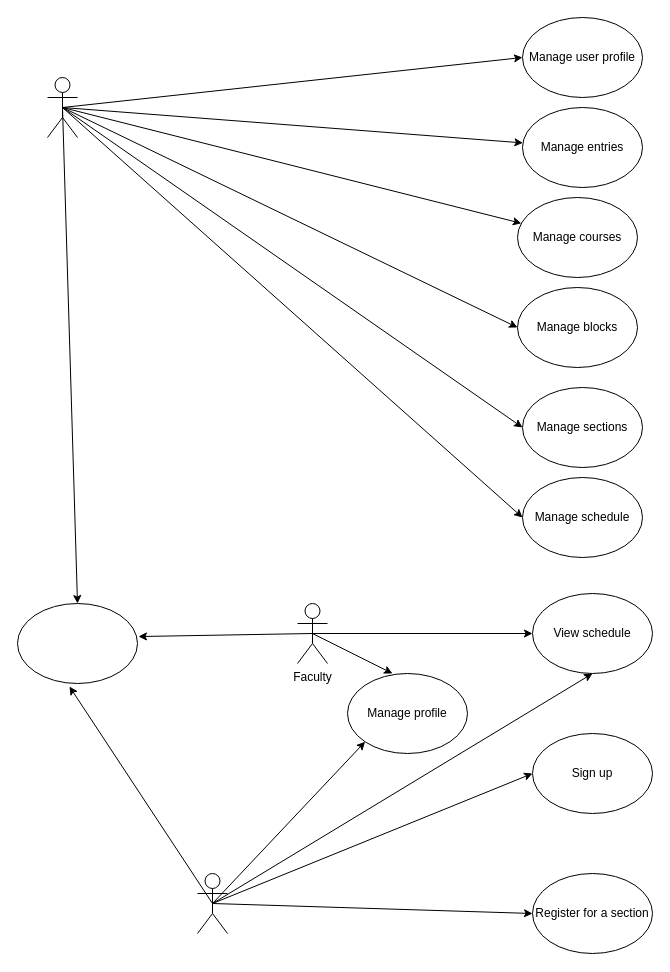
Image size: 670x972. Some labels were removed from this diagram. The shapes that lost their labels are listed below. From the top down, each one's centre as x and y in pixels, then its label:
point 62,107: Admin
point 77,643: Login
point 212,903: Student
